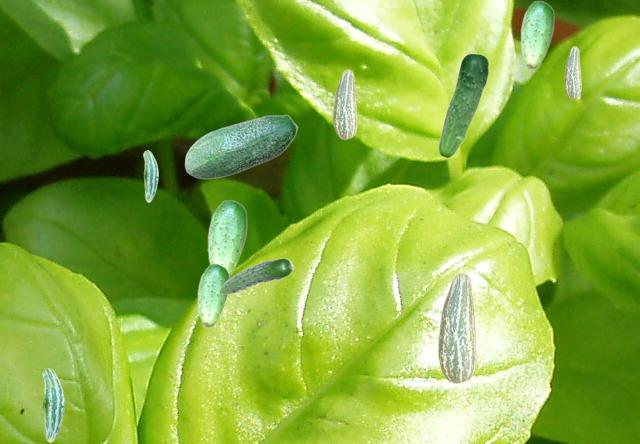cucumber: (184, 114, 297, 178), (437, 53, 488, 157), (438, 273, 475, 382), (207, 199, 246, 277), (219, 258, 293, 293), (520, 0, 553, 69), (197, 263, 228, 327), (333, 69, 356, 138), (42, 368, 63, 441), (564, 46, 580, 97), (143, 150, 157, 201)
